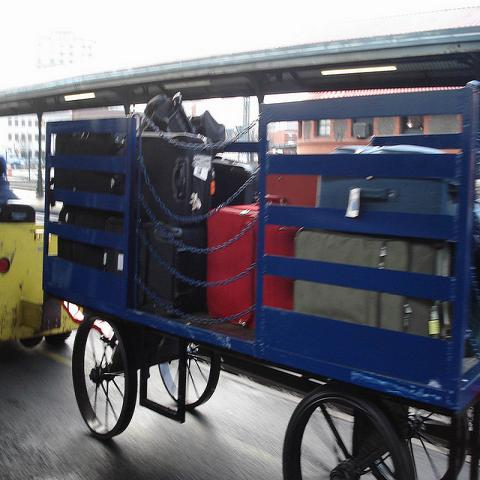truck: (0, 157, 81, 350)
